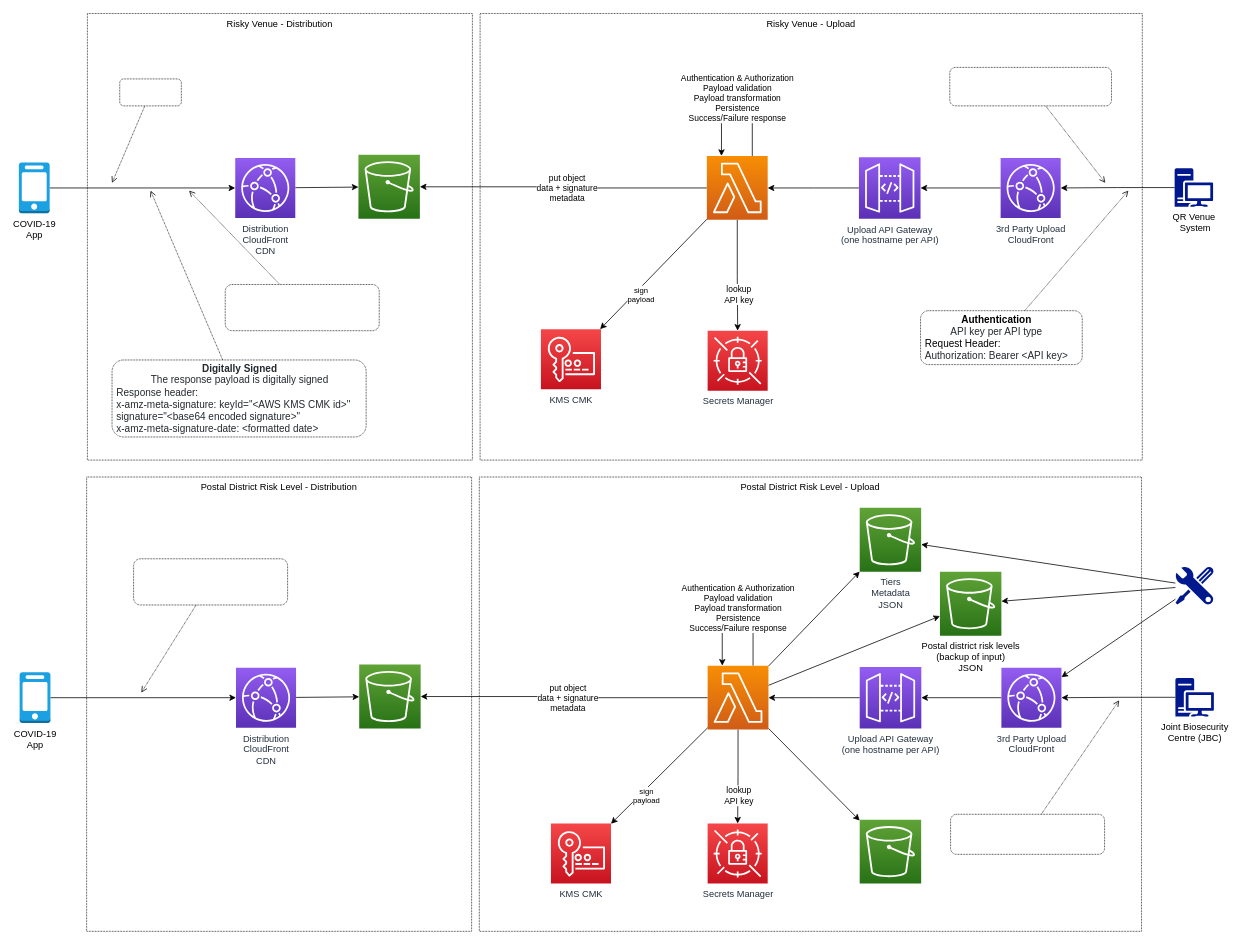
Some shapes in this 1241 by 945 pixel diagram are drawn without their labels. Each missing label, with the centre of its shape:
HTTPS GET: point (150, 92)
HTTPS GET No Authentication Digitally Signed: point (210, 581)
HTTPS POST API Key Authentication: point (1027, 834)
HTTPS POST CSV or JSON: point (1030, 86)
No Authentication Not required for distribution APIs: point (301, 307)
Postal district risk levels (analytics copy of input) CSV: point (890, 851)
Postal district risk levels Distribution JSONs S3 Bucket: point (389, 696)
Risky Venues Distribution S3 Bucket: point (389, 186)
Risky Venues Upload Lambda: point (737, 187)
Tiers Release Pipeline: point (1194, 586)
Upload Lambda: point (737, 697)
